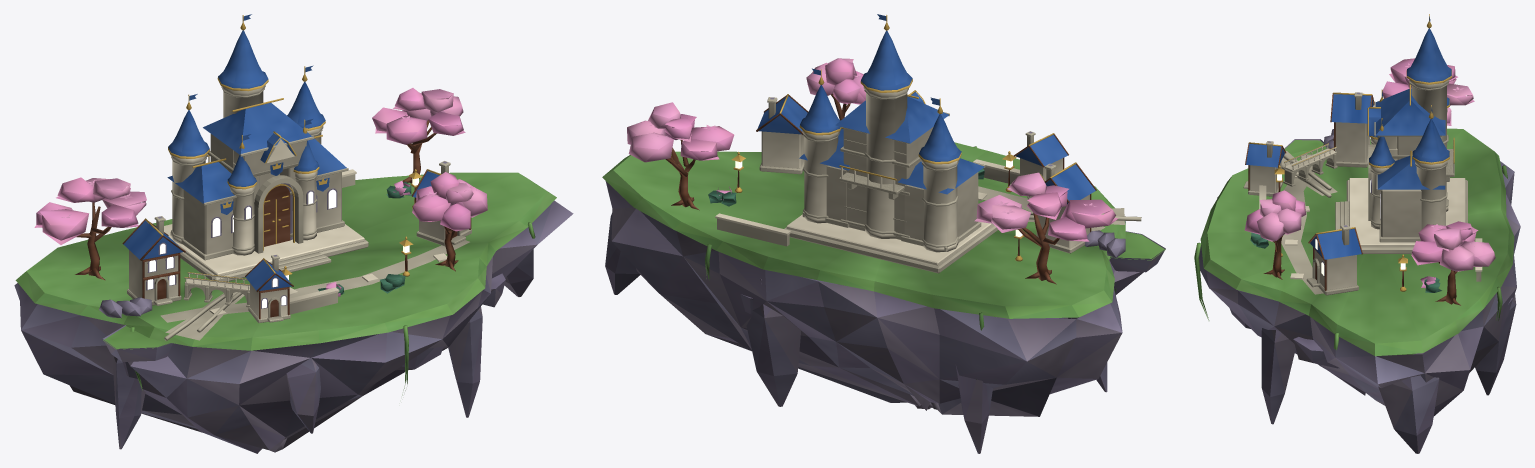
File: royal-island-left-v4-low.glb
The picture shows the model from 3 angles, left to right: view 1: azimuth 30°, elevation 25°; view 2: azimuth 150°, elevation 25°; view 3: azimuth 270°, elevation 25°; orthographic projection. The views are drawn at different scales.
Visible parts, largest first — view 1: royal-island-left-v4; view 2: royal-island-left-v4; view 3: royal-island-left-v4.
Boxes of the visible parts, x1,y1,x2,y2 form: royal-island-left-v4: [14, 14, 573, 453]; royal-island-left-v4: [602, 14, 1165, 453]; royal-island-left-v4: [1194, 14, 1520, 453].
Size of the model in its own units: 20.13 by 14.91 by 11.63.
10 materials, 10 textured.
